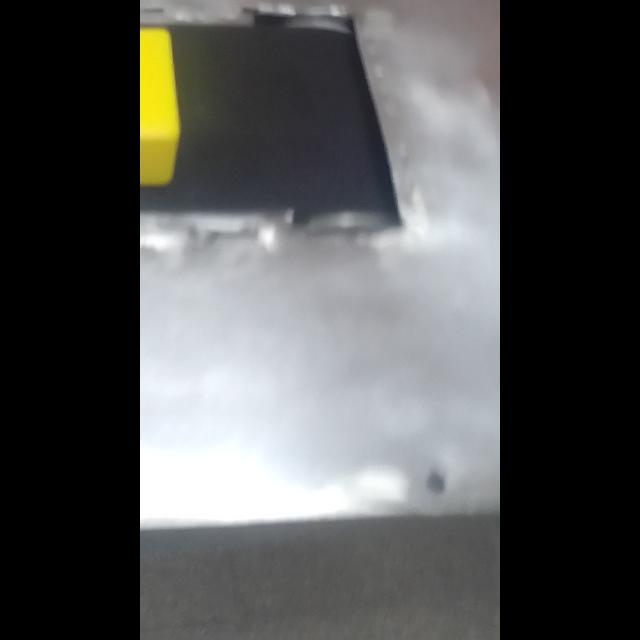yellowBox: (140, 1, 186, 201)
